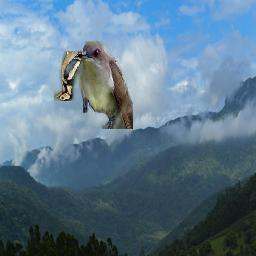Cuckoo: (77, 41, 134, 129)
Woodpecker: (54, 51, 84, 101)
